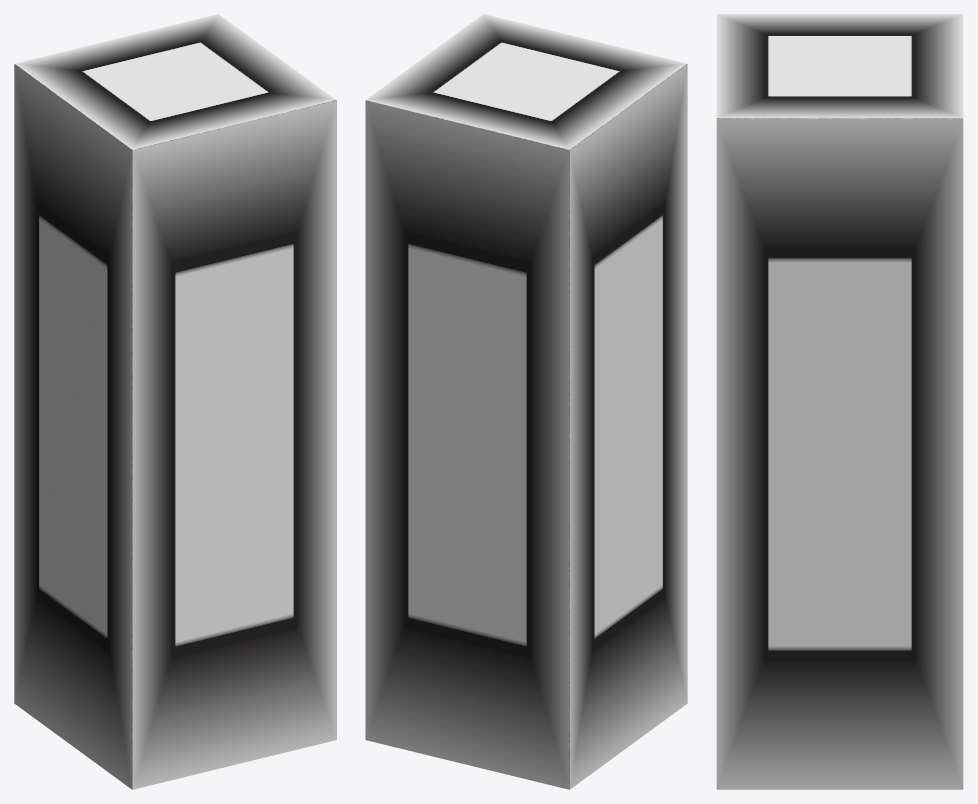
Rendered from obelisk.obj.
The picture shows the model from 3 angles, left to right: view 1: azimuth 30°, elevation 25°; view 2: azimuth 150°, elevation 25°; view 3: azimuth 270°, elevation 25°; orthographic projection. The views are drawn at different scales.
Parts seen in each view (by area): view 1: Obelisk3, Obelisk4, Obelisk7, Obelisk1, Obelisk2; view 2: Obelisk5, Obelisk4, Obelisk7, Obelisk1, Obelisk2; view 3: Obelisk2, Obelisk7.
Part boxes in pixels (x1,y1,x2,y2): Obelisk3: (132,101,336,789); Obelisk4: (14,64,131,789); Obelisk7: (15,14,335,149); Obelisk1: (15,64,335,789); Obelisk2: (336,100,336,739); Obelisk5: (365,101,569,789); Obelisk4: (570,64,687,789); Obelisk7: (366,14,686,149); Obelisk1: (366,64,686,789); Obelisk2: (365,100,365,739); Obelisk2: (716,119,963,789); Obelisk7: (716,14,963,118).
Bounding box in the file's own units: 10.04 × 30.04 × 10.04.
3 materials, 3 textured.
